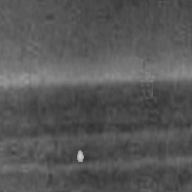Target: (74, 148, 84, 163)
